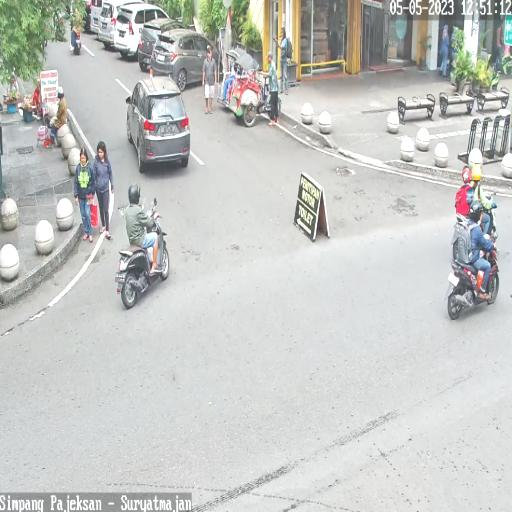mobil: (125, 74, 191, 174), (152, 30, 218, 96), (115, 6, 170, 64), (139, 22, 184, 72)
motor: (117, 196, 170, 314), (448, 230, 500, 320), (451, 193, 497, 255)
